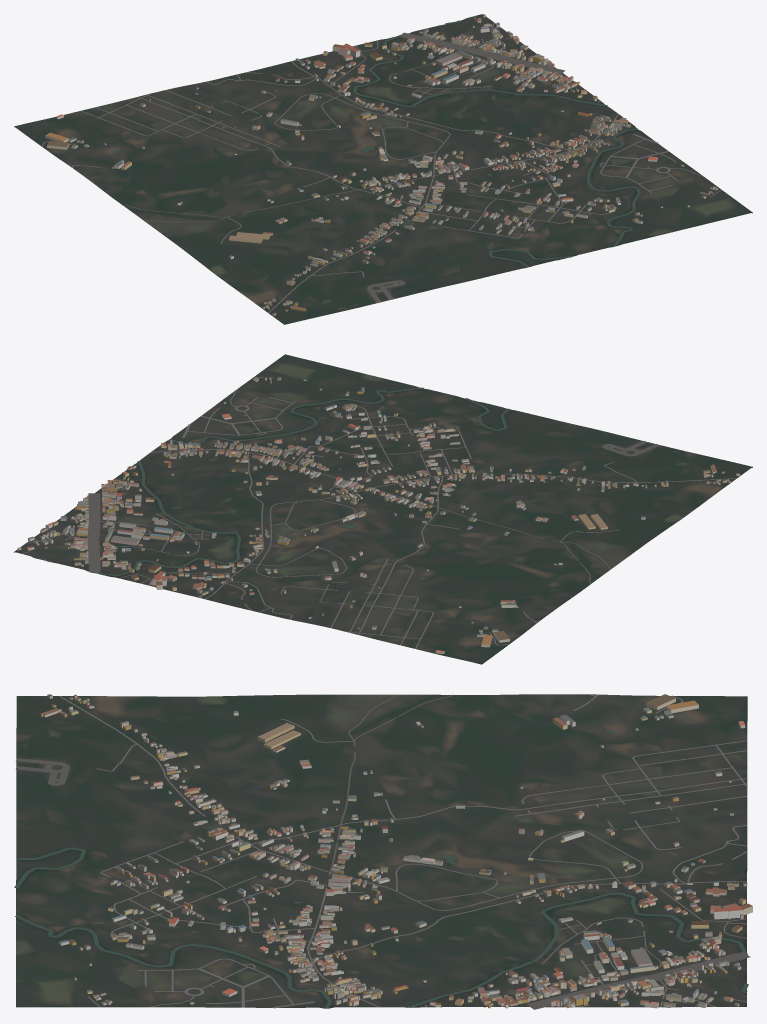
The picture shows the model from 3 angles, top to bottom: view 1: azimuth 30°, elevation 25°; view 2: azimuth 150°, elevation 25°; view 3: azimuth 270°, elevation 25°; orthographic projection. The views are drawn at different scales.
Parts seen in each view (by area): view 1: ground, buildings, roads, water; view 2: ground, buildings, roads, water; view 3: ground, buildings, roads, water.
Boxes of the visible parts, x1=… form: ground: x1=14, y1=14, x2=752, y2=324; buildings: x1=45, y1=14, x2=717, y2=315; roads: x1=41, y1=16, x2=721, y2=313; water: x1=113, y1=20, x2=640, y2=267; ground: x1=14, y1=354, x2=752, y2=664; buildings: x1=17, y1=377, x2=739, y2=654; roads: x1=22, y1=377, x2=736, y2=648; water: x1=37, y1=387, x2=510, y2=617; ground: x1=16, y1=694, x2=747, y2=1008; buildings: x1=40, y1=694, x2=752, y2=1008; roads: x1=16, y1=694, x2=750, y2=1009; water: x1=14, y1=730, x2=748, y2=1008.
Size of the model in its own units: 1415 by 20.89 by 1417.
